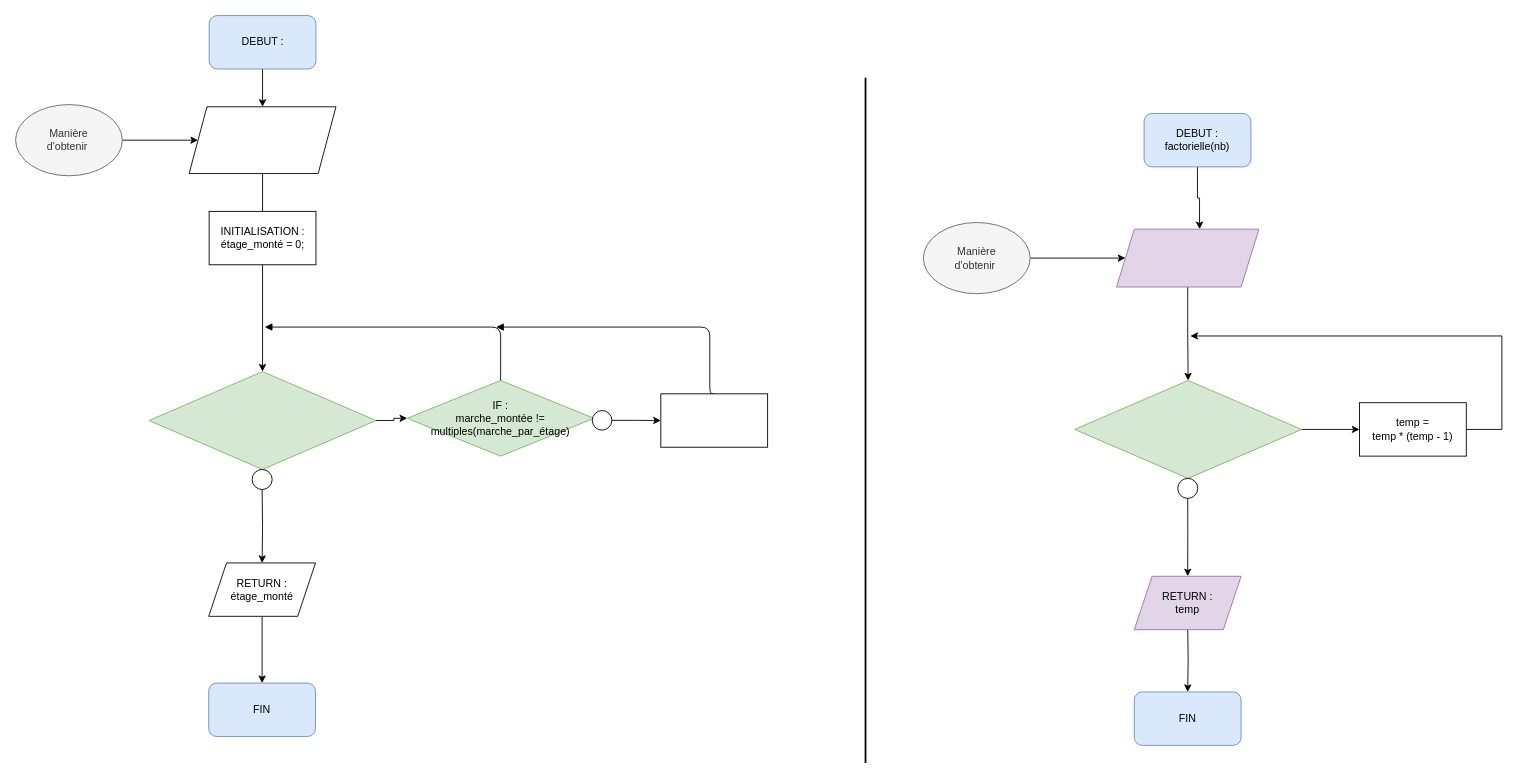
Image size: 1525x780. Some labels were removed from this diagram. Each missing label, with the centre of its shape:
"FOR : marche_montée=0 ; marche_montée<=nb_marche ; marche_montée++" belongs at (262,420).
"FOR : temp=nb ; temp > 1 ; temp--" belongs at (1188,429).
"nb" belongs at (1187,257).
"Obtention des variables nb_marche, marche_par_étage" belongs at (262,140).
"étage_monté++" belongs at (714,420).
